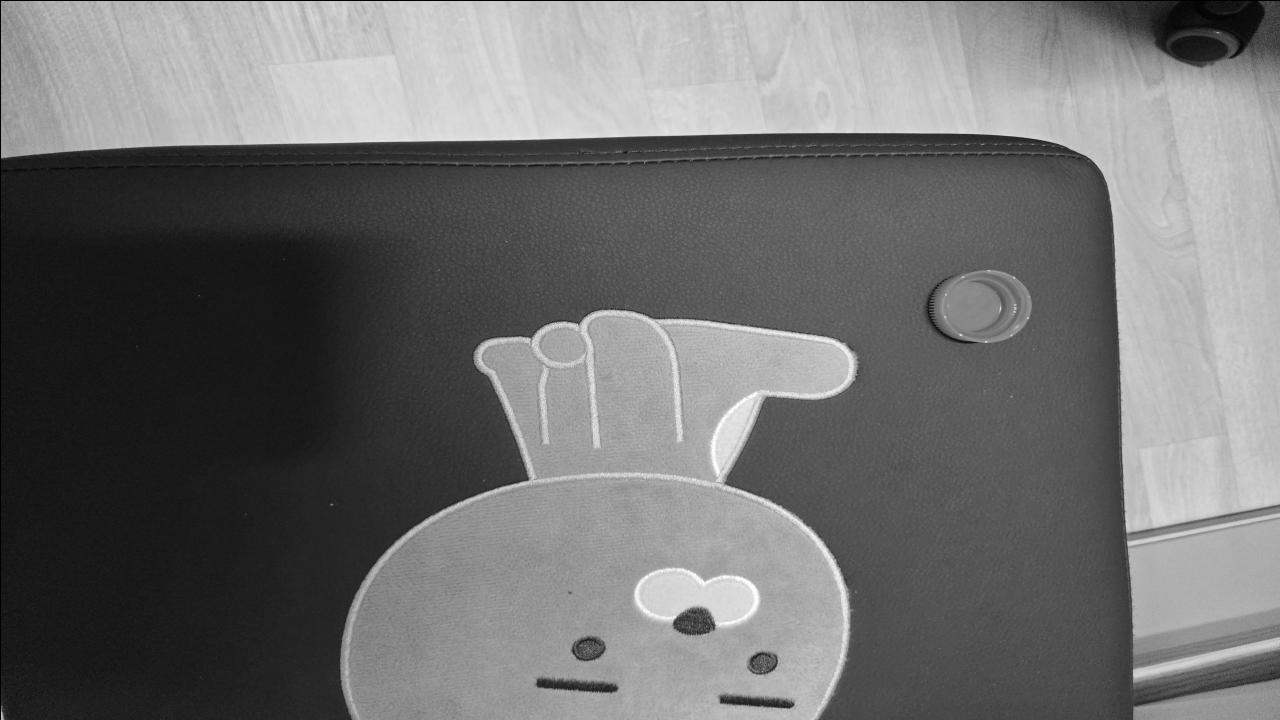bottle_cap: (931, 270, 1026, 341)
